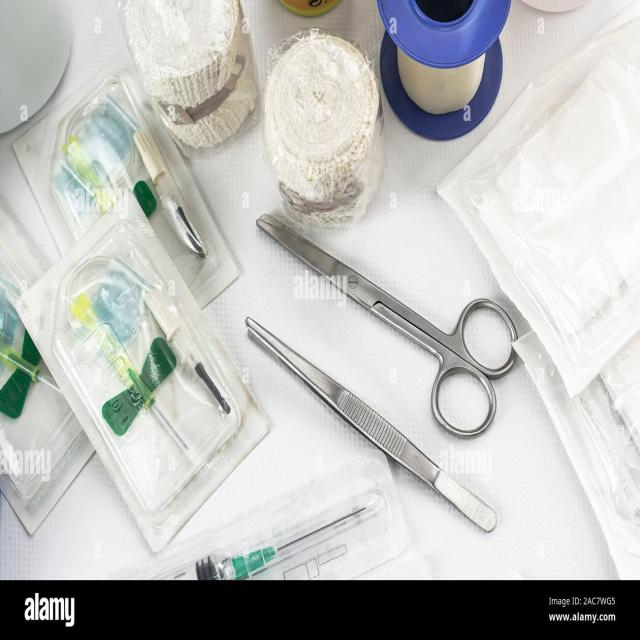B3: (247, 174, 568, 451), (257, 10, 396, 235), (112, 2, 287, 152)
